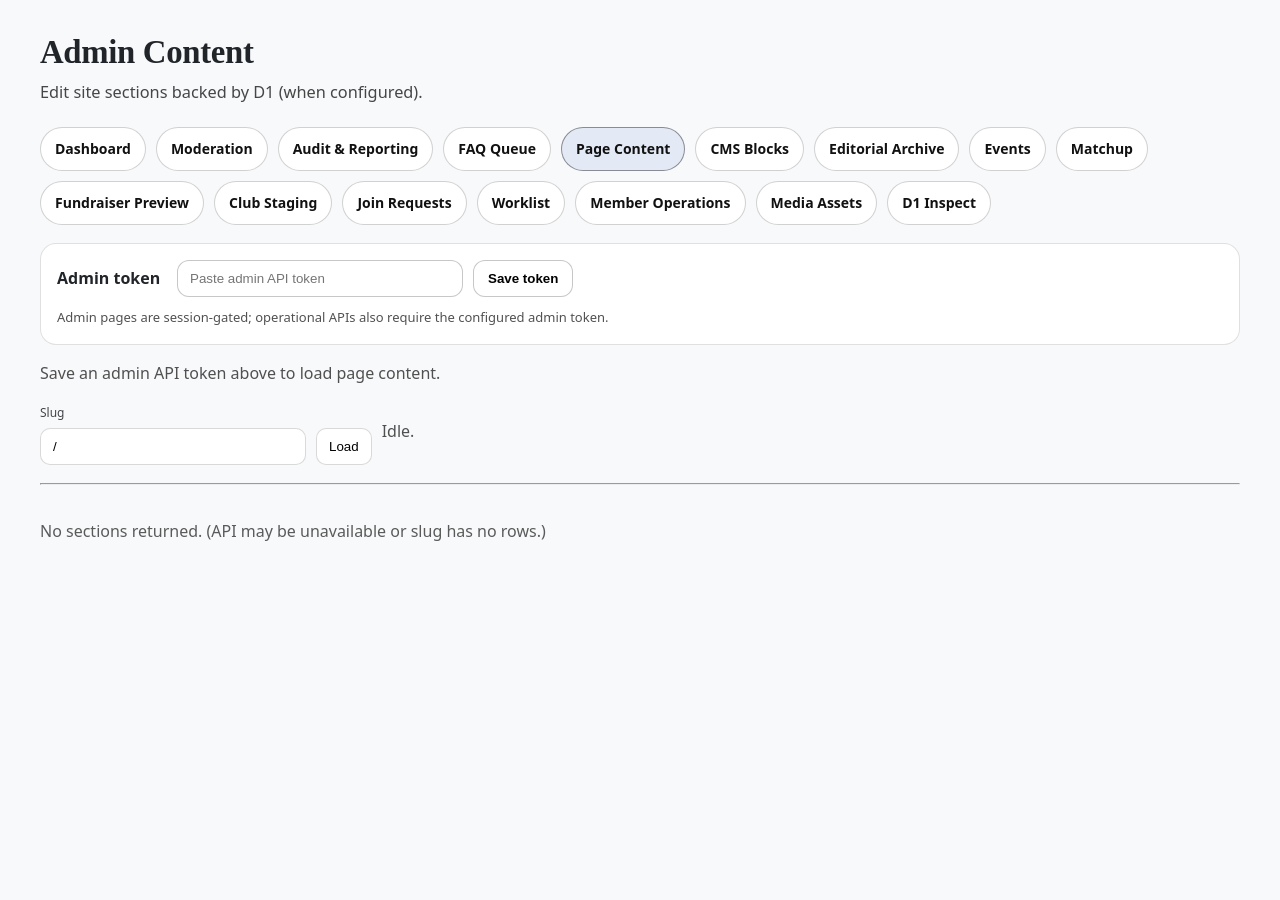
admin content page › loads the current slug once when a token is first saved
The image size is (1280, 900).
Type "/about" into the field with placeholder "/" at [173, 446], box [40, 428, 306, 465]
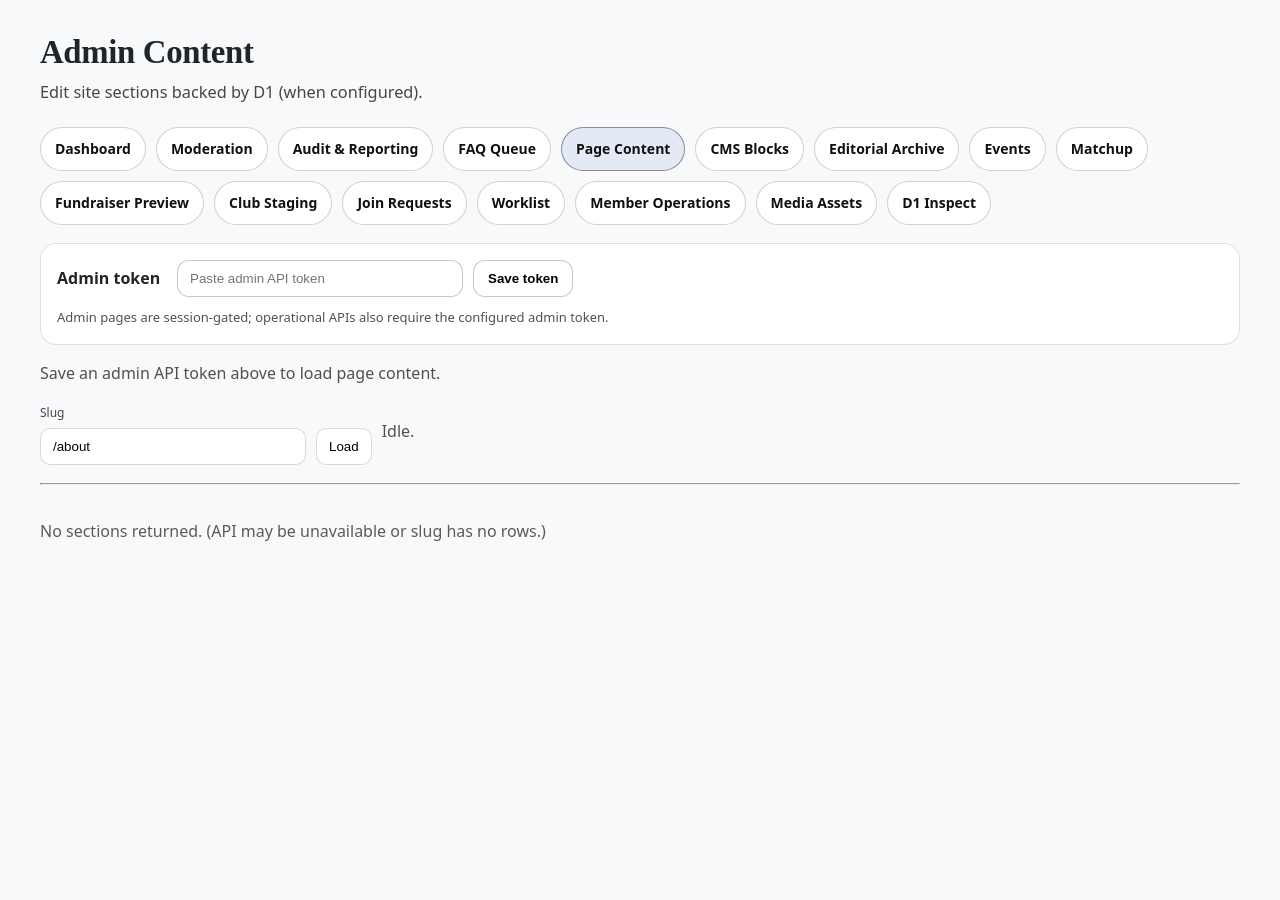
Type "secret" into the password field labelled "Admin token" at [320, 279], box [177, 260, 463, 297]
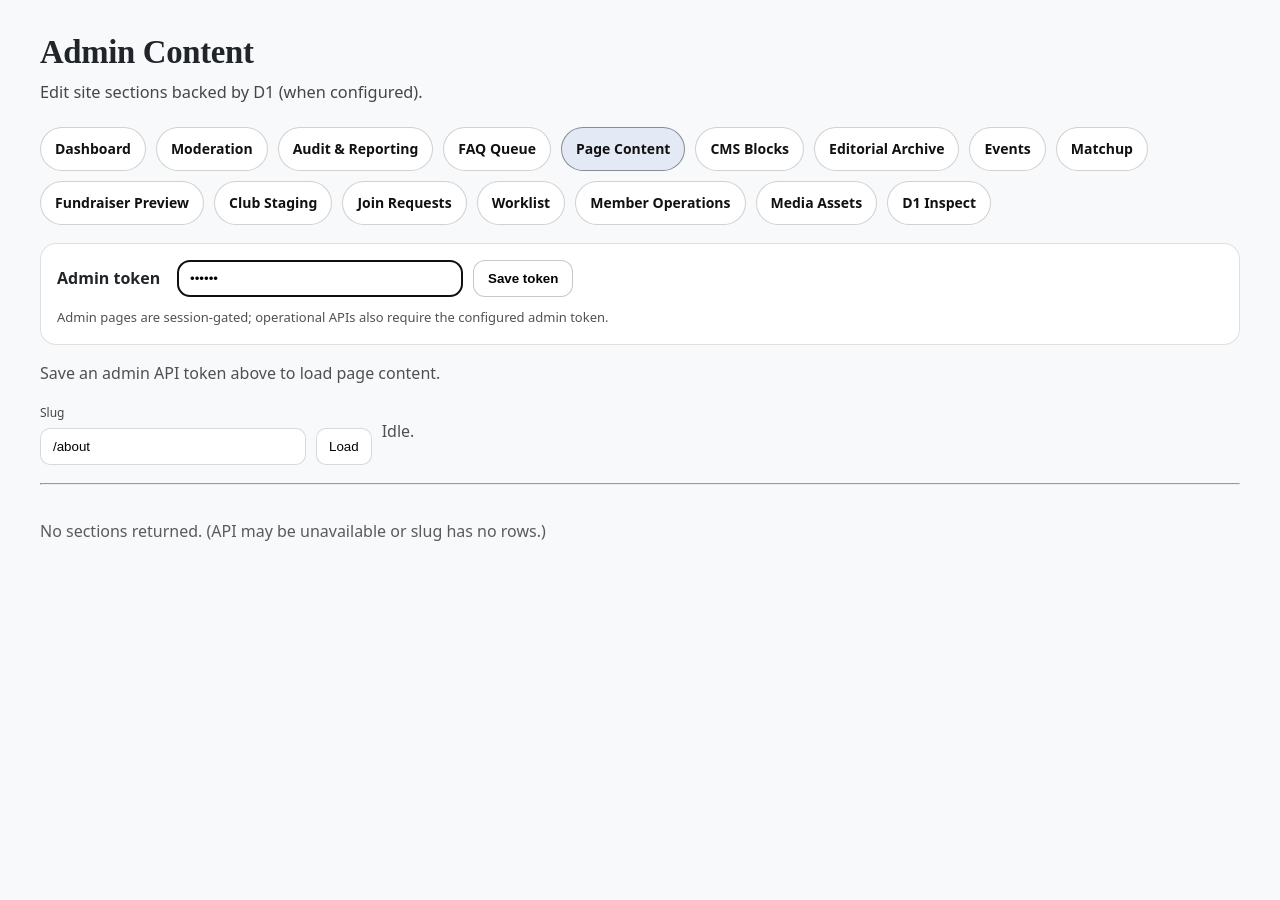
Click the button "Save token" at [523, 279], box [473, 260, 573, 297]
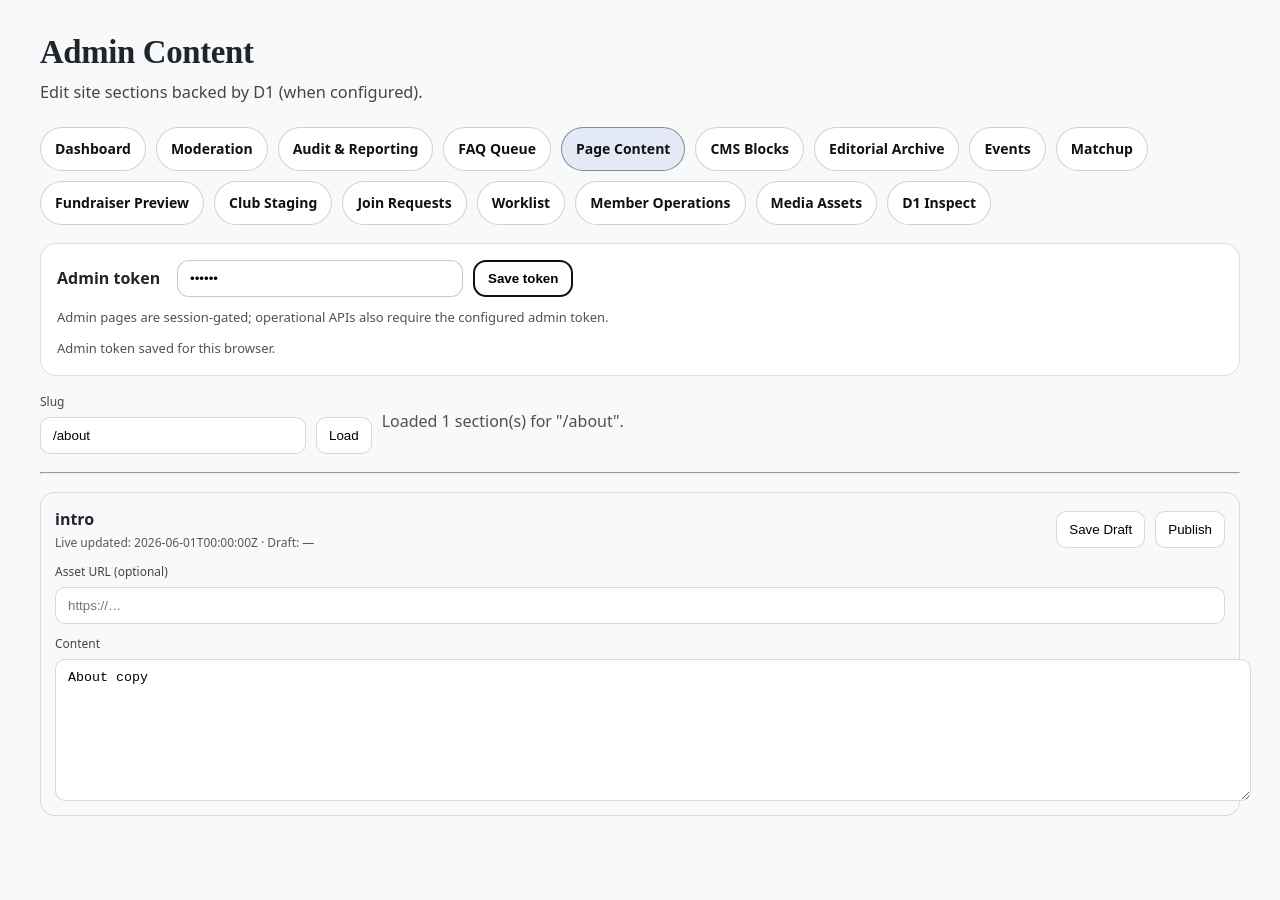
Expected: the text "intro" is shown, [55, 508, 94, 530]
